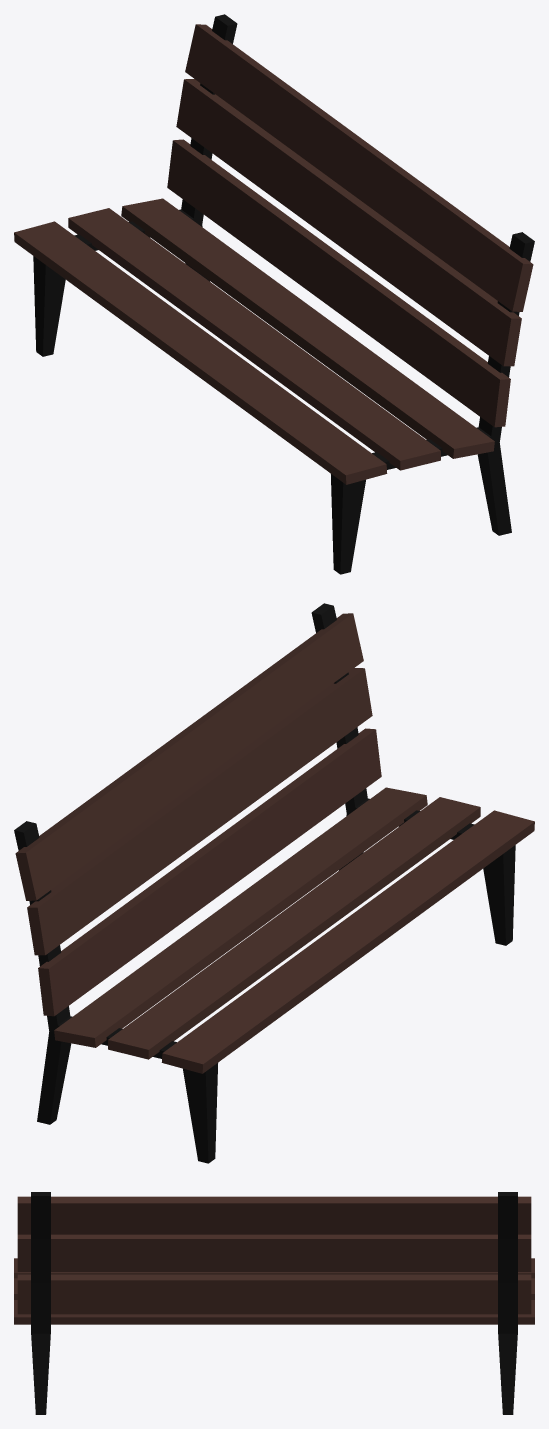
Rendered from Bench.fbx.
3 renders of one model, top to bottom at view 1: azimuth 30°, elevation 25°; view 2: azimuth 150°, elevation 25°; view 3: azimuth 270°, elevation 25°, orthographic. The views are drawn at different scales.
Parts seen in each view (by area): view 1: Bench; view 2: Bench; view 3: Bench.
Part boxes in pixels (<box>): Bench: <box>14,14,534,574</box>; Bench: <box>14,603,534,1163</box>; Bench: <box>14,1192,534,1414</box>.
Bounding box in the file's own units: 69.6 × 96.01 × 200.
